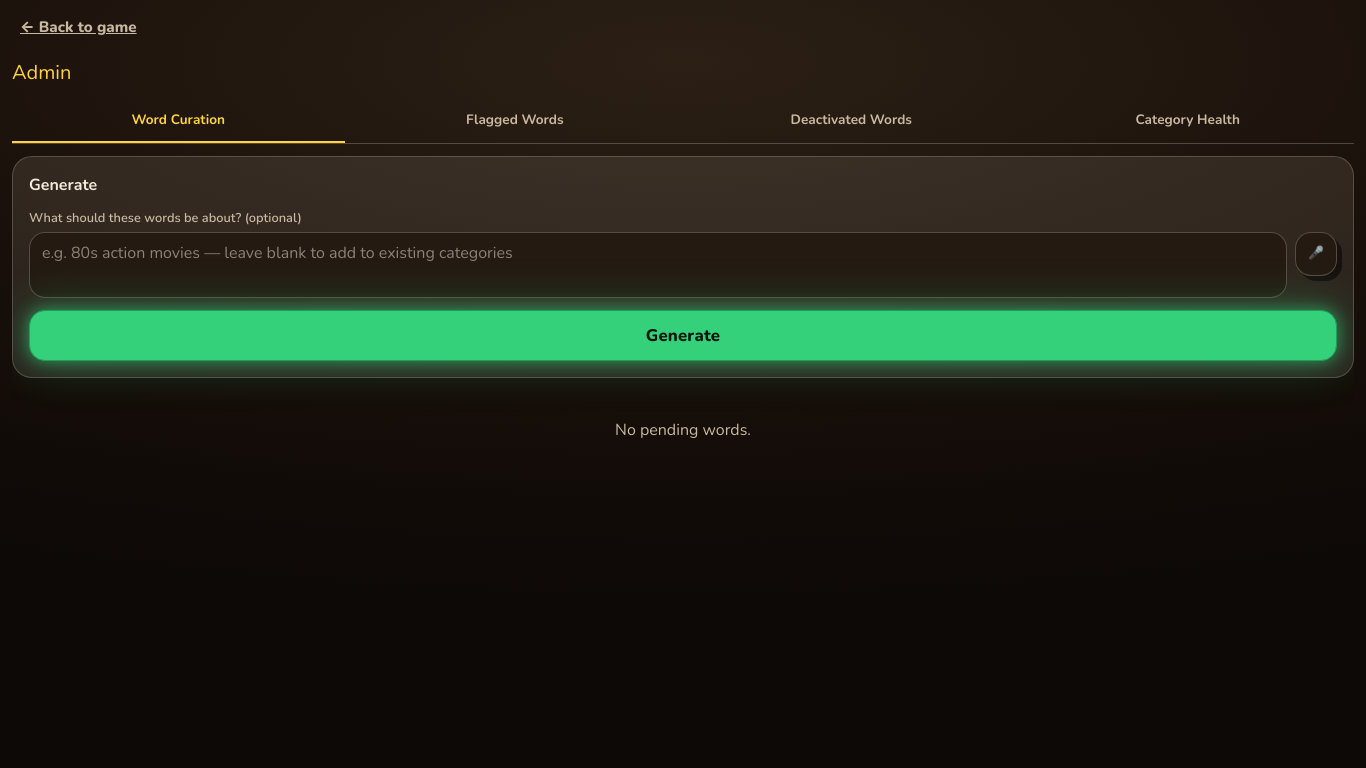
Test: AdminScreen › adds generated candidates to the local review queue without persisting them
Check: the heading "Generate" is shown, box left=29, top=174, right=97, bottom=196
Click the button "Generate" at (683, 336), box left=29, top=310, right=1337, bottom=361
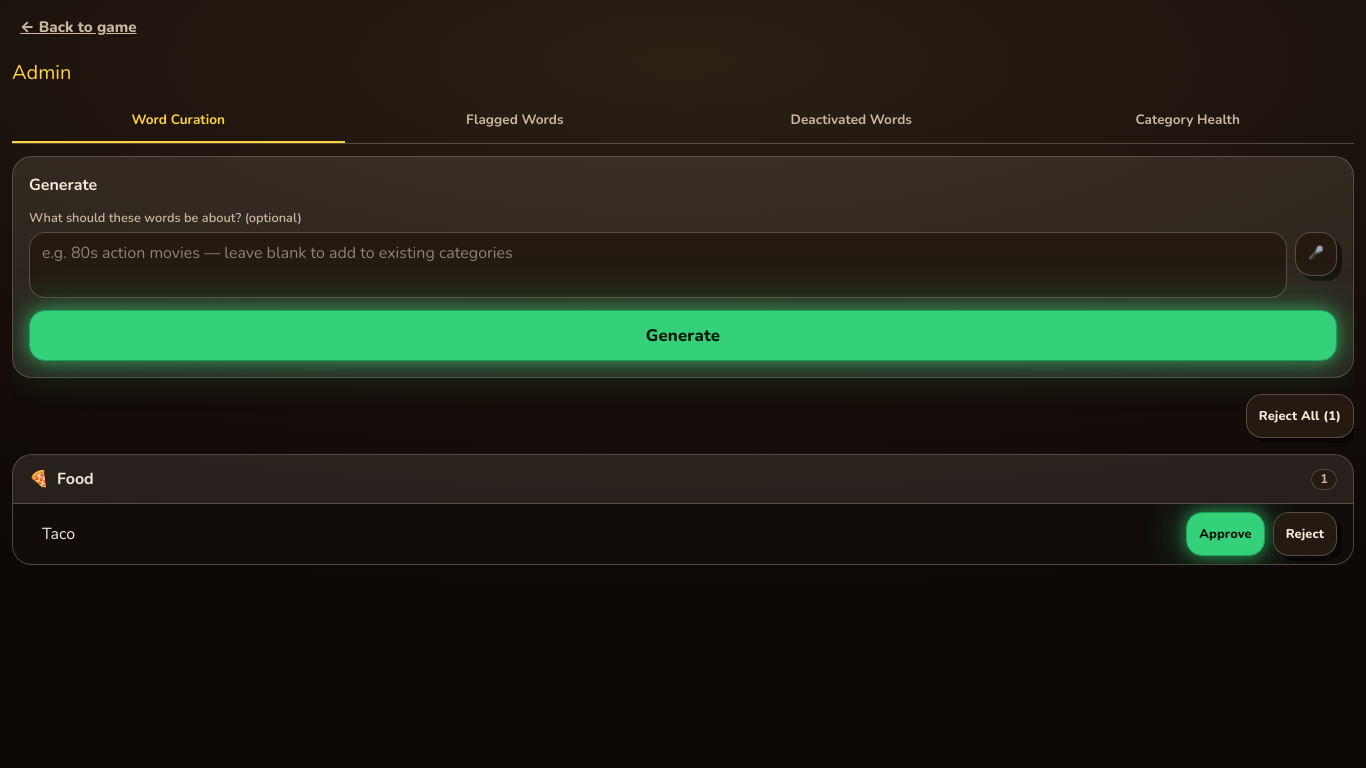
Check: the field showing "Taco" is shown, box left=29, top=512, right=1178, bottom=556
